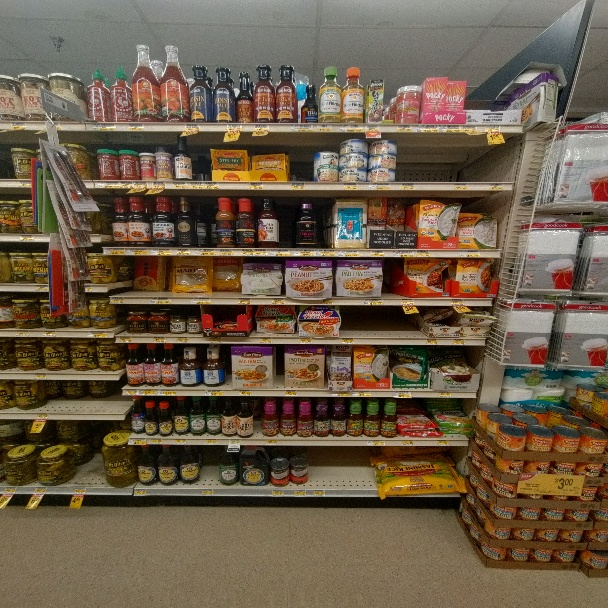All PRICE TAGS: (104, 247, 126, 254), (93, 123, 115, 130), (392, 391, 412, 398), (460, 250, 480, 257), (340, 249, 358, 256), (271, 249, 292, 255), (132, 248, 153, 254), (483, 125, 501, 132), (173, 438, 193, 444), (318, 249, 335, 256), (331, 391, 350, 397), (205, 389, 224, 395), (296, 249, 315, 255), (157, 248, 176, 254), (98, 181, 117, 187), (309, 489, 325, 496), (130, 437, 146, 444), (413, 250, 429, 257), (176, 247, 192, 254), (202, 181, 218, 188), (415, 124, 431, 131), (344, 124, 360, 131), (227, 124, 241, 132), (234, 390, 252, 396), (154, 297, 172, 303), (393, 250, 411, 256), (88, 331, 106, 337), (370, 249, 385, 256), (217, 247, 232, 254), (365, 124, 380, 131), (367, 440, 384, 446), (123, 388, 140, 394), (366, 299, 383, 305), (197, 248, 214, 254), (315, 124, 332, 130), (127, 124, 144, 130), (149, 437, 163, 444), (342, 183, 356, 190), (290, 182, 304, 189), (250, 182, 264, 189), (283, 390, 299, 396), (161, 389, 177, 395), (117, 336, 133, 342), (451, 299, 467, 305), (271, 298, 287, 304), (195, 298, 211, 304), (111, 297, 127, 303), (293, 124, 309, 130), (253, 124, 269, 130), (255, 249, 268, 256), (72, 487, 85, 494), (237, 298, 252, 304), (239, 248, 254, 254), (375, 183, 390, 189), (398, 124, 413, 130), (184, 124, 199, 130), (20, 180, 31, 188), (316, 299, 333, 304), (228, 439, 242, 445), (152, 337, 166, 343), (400, 299, 414, 305), (454, 183, 468, 189), (401, 183, 415, 189), (183, 181, 197, 187), (169, 181, 183, 187), (464, 124, 478, 130), (440, 125, 454, 131), (342, 337, 354, 344), (439, 391, 451, 398), (44, 330, 56, 337), (20, 235, 34, 241), (11, 123, 25, 129), (352, 392, 368, 397), (171, 338, 187, 343), (127, 181, 143, 186), (261, 337, 272, 344), (34, 488, 45, 495), (4, 486, 15, 493), (270, 490, 285, 495), (205, 439, 220, 444), (451, 339, 466, 344), (423, 339, 438, 344), (298, 339, 313, 344), (149, 182, 164, 187), (489, 183, 501, 189), (34, 374, 46, 380), (35, 414, 47, 420), (17, 330, 29, 336), (35, 285, 47, 291), (293, 490, 307, 495), (201, 489, 215, 494), (402, 440, 416, 445), (135, 489, 148, 494), (436, 440, 449, 445), (144, 389, 157, 394), (209, 337, 221, 342)
